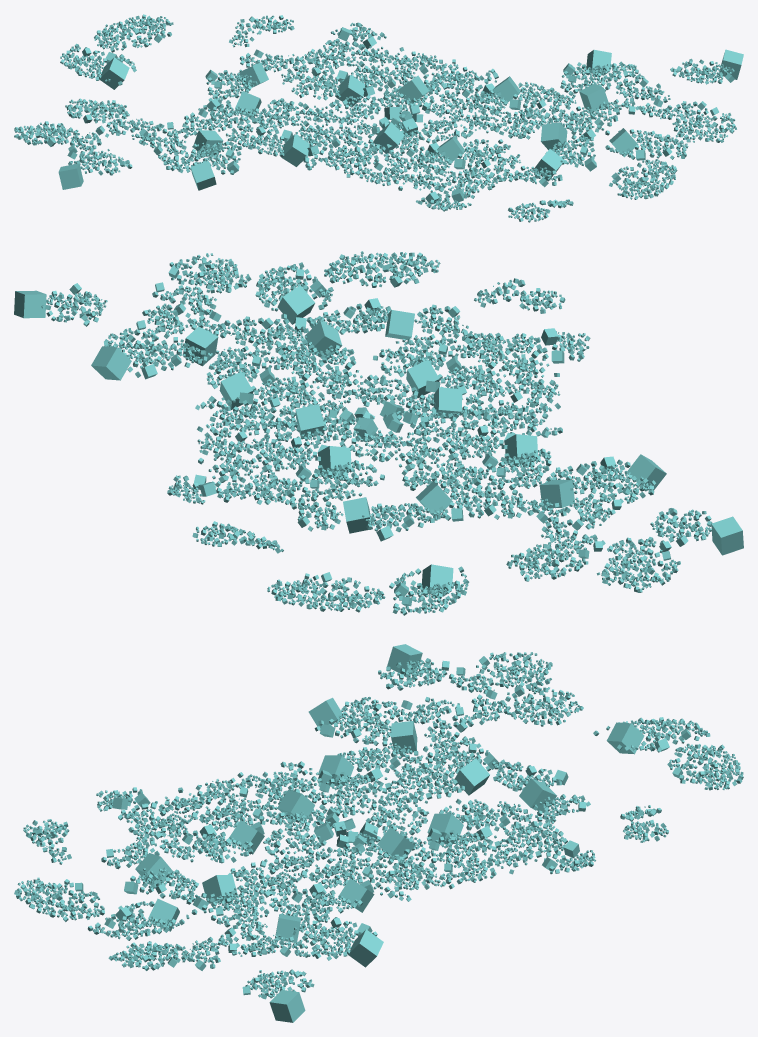
Rendered from Glass.Shards.Wall3.fbx.
3 renders of one model, top to bottom at view 1: azimuth 30°, elevation 25°; view 2: azimuth 150°, elevation 25°; view 3: azimuth 270°, elevation 25°, orthographic. The views are drawn at different scales.
Visible parts, largest first — view 1: Cube; view 2: Cube; view 3: Cube.
Part boxes in pixels (x1=…): Cube: x1=14, y1=14, x2=743, y2=222; Cube: x1=14, y1=251, x2=743, y2=615; Cube: x1=14, y1=644, x2=743, y2=1022.
Size of the model in its own units: 827 by 42.15 by 708.
